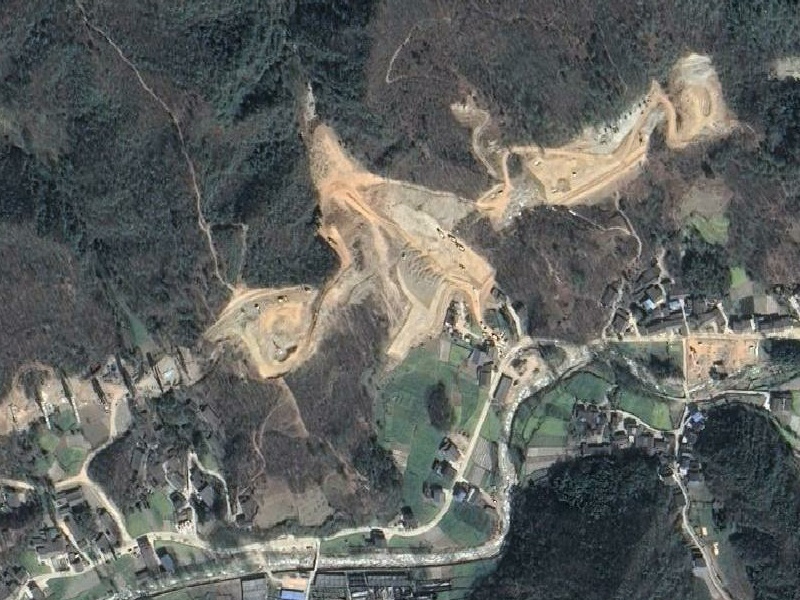slope: (197, 85, 503, 378), (663, 49, 757, 153)
